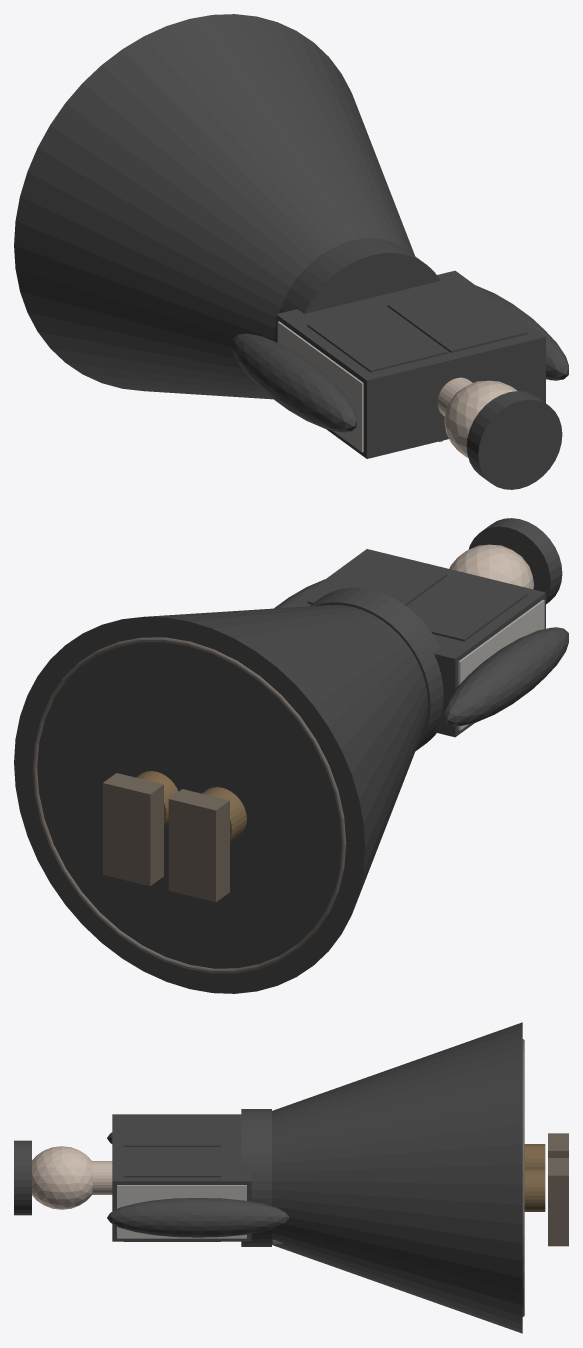
File: MASTER_066_STAGE3_DETAIL.glb
3 views of the same model, one above another, from view 1: azimuth 30°, elevation 25°; view 2: azimuth 150°, elevation 25°; view 3: azimuth 270°, elevation 25° (orthographic). The views are drawn at different scales.
Parts seen in each view (by area): view 1: slot_lower_main__fund_i_gjatë, slot_upper_inner__këmishë, slot_headwear__mbulesë_koke, slot_waist__brez, slot_upper_inner_sleeve_L, slot_upper_outer__jelek_R, slot_upper_outer__jelek_L, mannequin_torso, mannequin_head, slot_upper_inner_sleeve_R; view 2: slot_lower_main__fund_i_gjatë, slot_footwear__opinga_L, slot_footwear__opinga_R, slot_upper_inner_sleeve_L, detail_skirt_hem, slot_upper_inner__këmishë, slot_upper_outer__jelek_L, slot_waist__brez, slot_headwear__mbulesë_koke, slot_upper_outer__jelek_R, mannequin_head, mannequin_torso (+2 smaller); view 3: slot_lower_main__fund_i_gjatë, slot_upper_inner_sleeve_R, slot_upper_inner__këmishë, mannequin_head, slot_upper_outer__jelek_R, slot_waist__brez, slot_upper_outer__jelek_L, mannequin_torso, slot_footwear__opinga_R, slot_headwear__mbulesë_koke, slot_legwear__çorape_R, detail_skirt_hem (+3 smaller).
Boxes of the visible parts, x1,y1,x2,y2 form: slot_lower_main__fund_i_gjatë: (14,14,414,399); slot_upper_inner__këmishë: (276,270,545,458); slot_headwear__mbulesë_koke: (466,391,562,489); slot_waist__brez: (274,238,440,341); slot_upper_inner_sleeve_L: (232,333,356,432); slot_upper_outer__jelek_R: (387,286,527,352); slot_upper_outer__jelek_L: (307,305,447,372); mannequin_torso: (277,321,363,452); mannequin_head: (444,380,517,457); slot_upper_inner_sleeve_R: (476,285,568,380); slot_lower_main__fund_i_gjatë: (14,605,428,993); slot_footwear__opinga_L: (168,789,229,902); slot_footwear__opinga_R: (103,773,163,886); slot_upper_inner_sleeve_L: (444,627,568,725); detail_skirt_hem: (32,637,346,973); slot_upper_inner__këmishë: (287,549,545,737); slot_upper_outer__jelek_L: (407,574,527,641); slot_waist__brez: (309,587,443,750); slot_headwear__mbulesë_koke: (468,518,562,604); slot_upper_outer__jelek_R: (307,555,447,605); mannequin_head: (449,544,533,589); mannequin_torso: (458,600,544,730); slot_lower_main__fund_i_gjatë: (272,1022,522,1333); slot_upper_inner_sleeve_R: (107,1198,289,1237); slot_upper_inner__këmishë: (112,1114,251,1241); mannequin_head: (32,1146,92,1209); slot_upper_outer__jelek_R: (123,1147,220,1241); slot_waist__brez: (241,1109,271,1246); slot_upper_outer__jelek_L: (123,1117,220,1146); mannequin_torso: (117,1185,246,1238); slot_footwear__opinga_R: (548,1158,568,1246); slot_headwear__mbulesë_koke: (14,1140,31,1215); slot_legwear__çorape_R: (524,1168,545,1211); detail_skirt_hem: (522,1039,524,1316).
Size of the model in its own units: 0.9607 by 0.9607 by 1.71.
